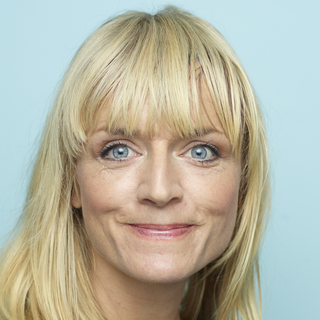eye: (96, 139, 143, 165), (178, 140, 226, 165)
